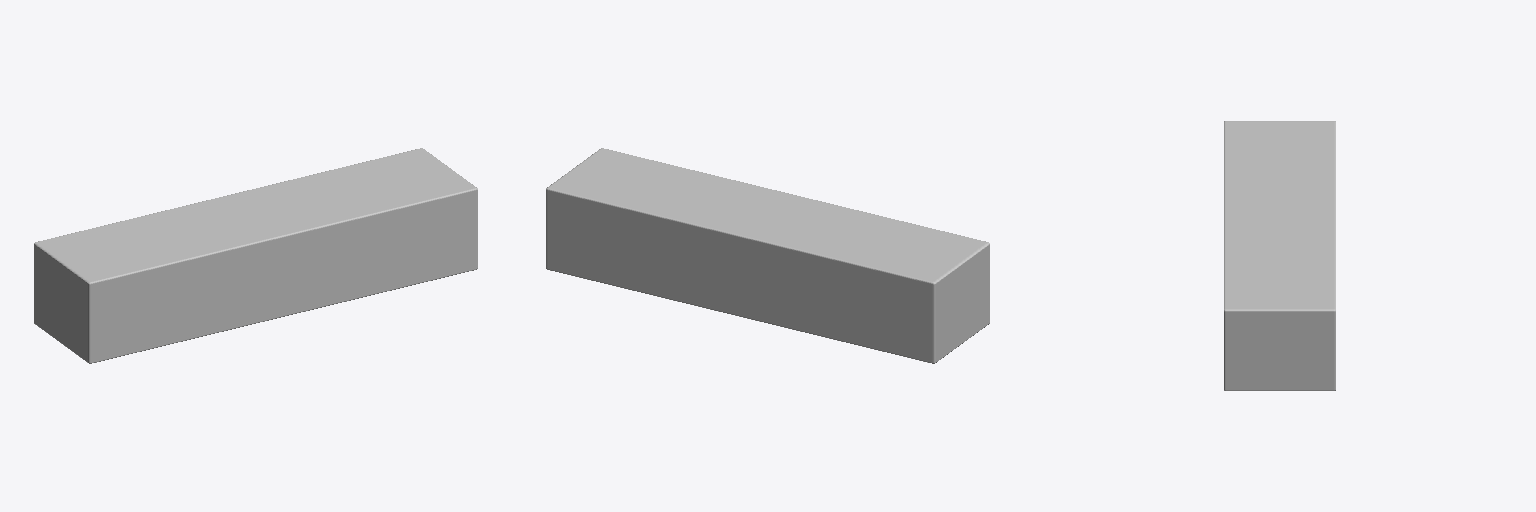
File: тумба 60х12х15.obj
3 renders of one model, left to right at view 1: azimuth 30°, elevation 25°; view 2: azimuth 150°, elevation 25°; view 3: azimuth 270°, elevation 25°, orthographic.
Visible parts, largest first — view 1: pedestals; view 2: pedestals; view 3: pedestals.
Boxes of the visible parts, box(x1,y1,x2,y2) form: pedestals: box(34, 148, 477, 363); pedestals: box(546, 148, 989, 363); pedestals: box(1224, 121, 1335, 390).
Size of the model in its own units: 60 by 12 by 15.